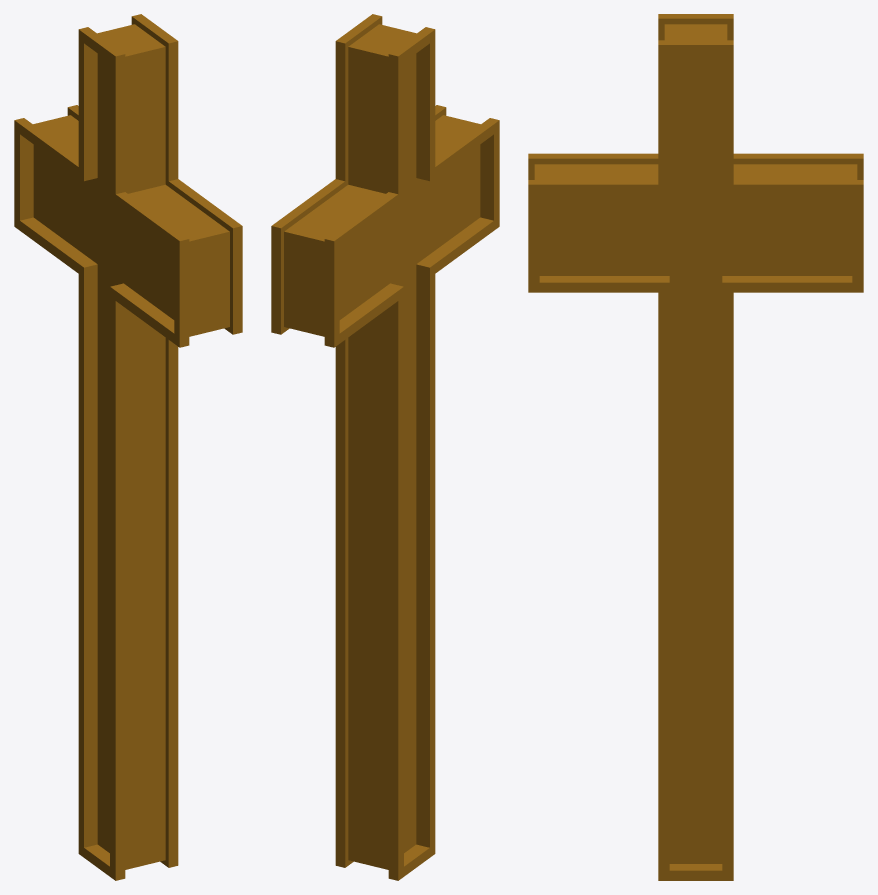
Rendered from CROSS.fbx.
3 renders of one model, left to right at view 1: azimuth 30°, elevation 25°; view 2: azimuth 150°, elevation 25°; view 3: azimuth 270°, elevation 25°, orthographic.
Parts seen in each view (by area): view 1: CROSS; view 2: CROSS; view 3: CROSS.
Boxes of the visible parts, left/top/right/bottom form: CROSS: left=14, top=14, right=242, bottom=880; CROSS: left=271, top=14, right=499, bottom=880; CROSS: left=528, top=14, right=863, bottom=880.
Bounding box in the file's own units: 0.1001 × 1.26 × 0.4573.
